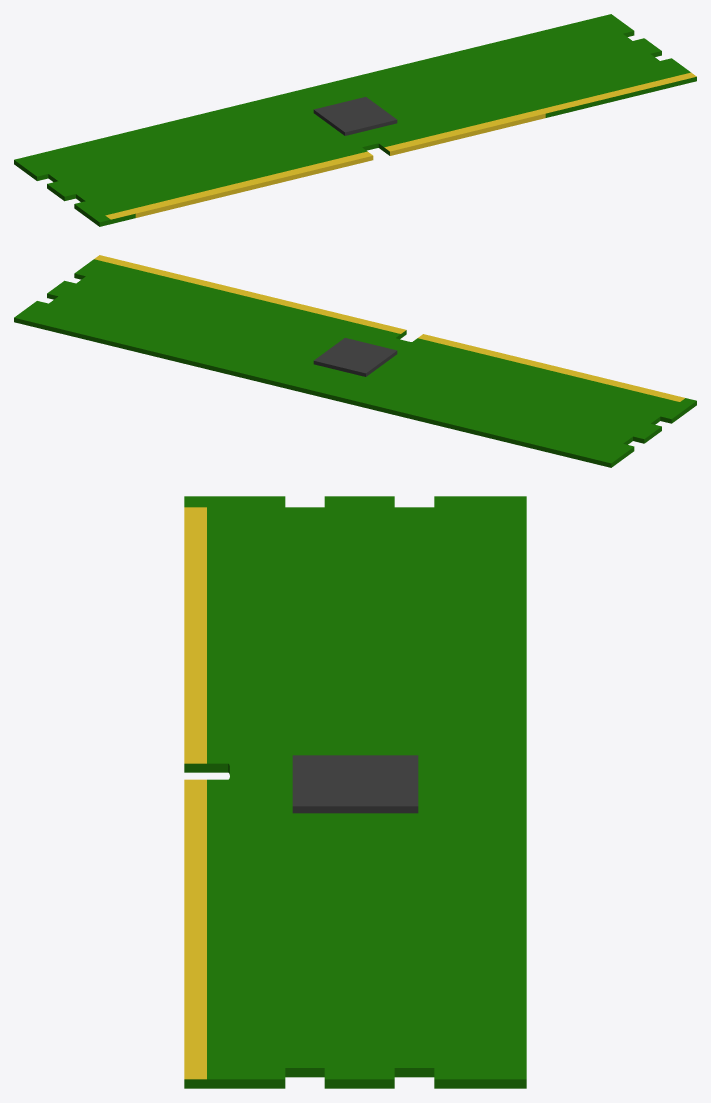
File: RAM1.fbx
3 renders of one model, top to bottom at view 1: azimuth 30°, elevation 25°; view 2: azimuth 150°, elevation 25°; view 3: azimuth 270°, elevation 25°, orthographic. The views are drawn at different scales.
Parts seen in each view (by area): view 1: Plane.001, Cube.009; view 2: Plane.001, Cube.009; view 3: Plane.001, Cube.009.
Part boxes in pixels (box(x1,y1,x2,y2)): Plane.001: box(14, 14, 696, 226); Cube.009: box(313, 97, 397, 135); Plane.001: box(14, 255, 696, 467); Cube.009: box(313, 338, 397, 376); Plane.001: box(184, 496, 526, 1088); Cube.009: box(292, 755, 418, 813).
Size of the model in its own units: 375 by 9.78 by 93.17.
